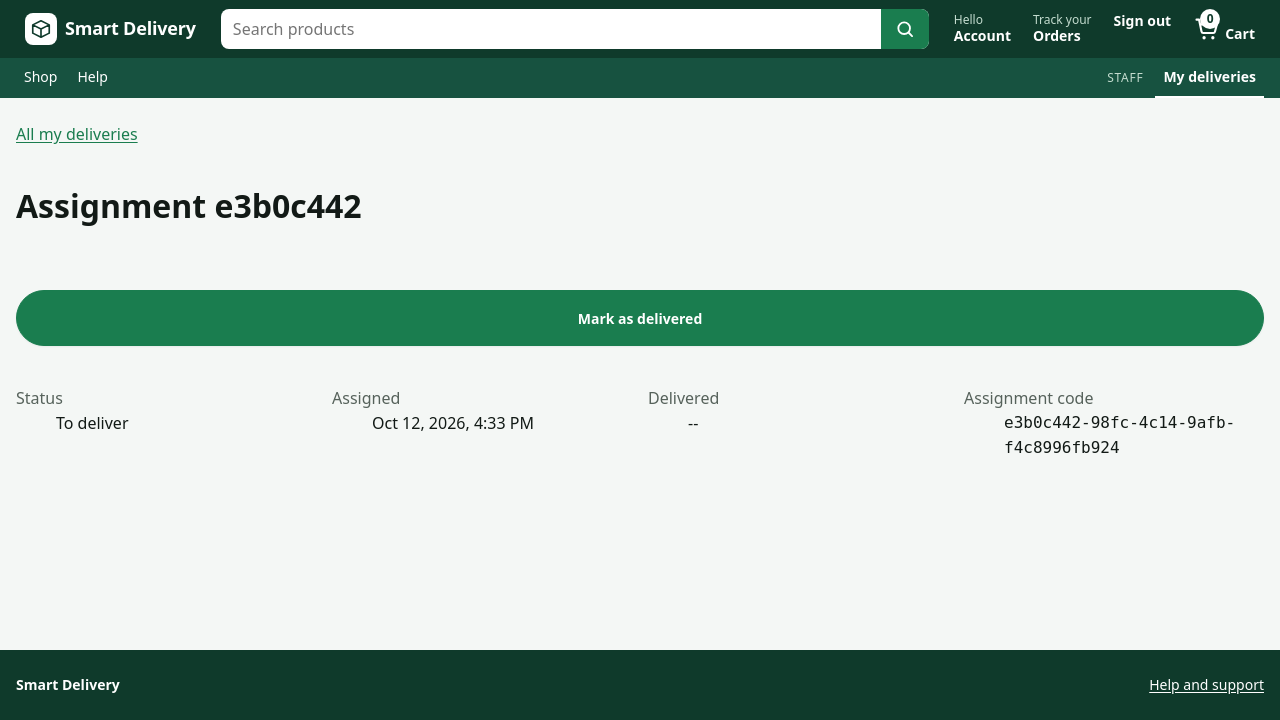
Test: completing a delivery › says it was already complete on a 409
Click the button "Mark as delivered" at [640, 318], box top-left (16, 290), bottom-right (1264, 346)
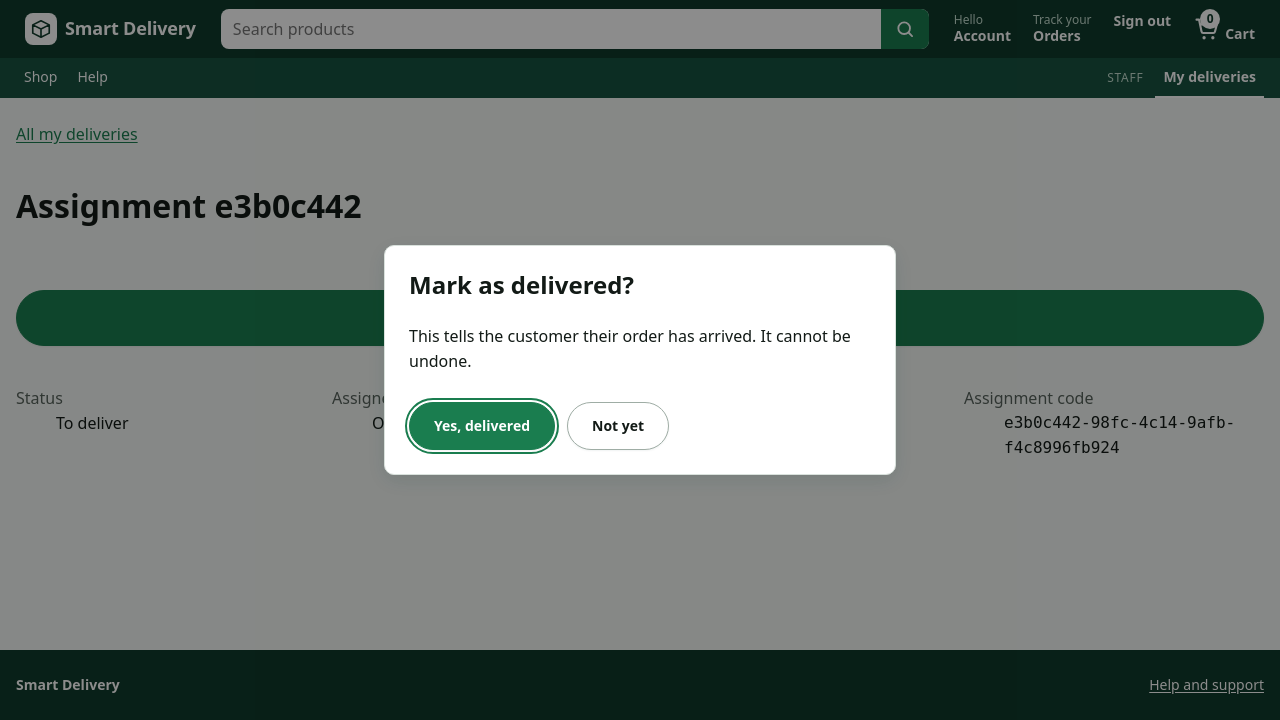
Click the button "Yes, delivered" at [482, 426], box top-left (409, 402), bottom-right (555, 450)
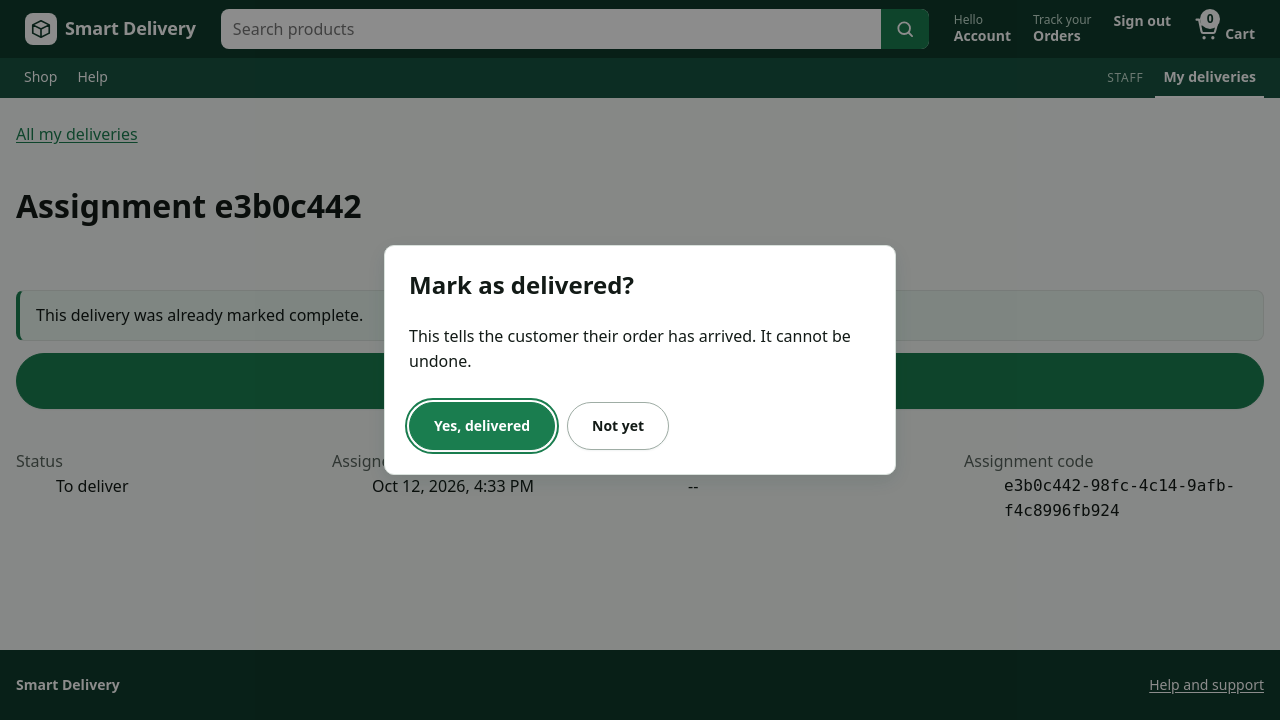
Expected: the text "This delivery was already marked complete." is shown, top-left (16, 290), bottom-right (1264, 341)
